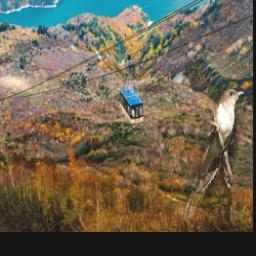Cuckoo: (184, 88, 245, 221)
